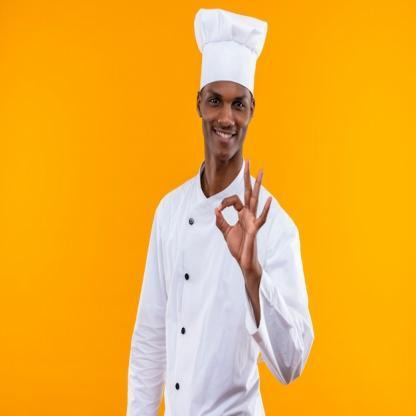ok: (213, 155, 275, 274)
